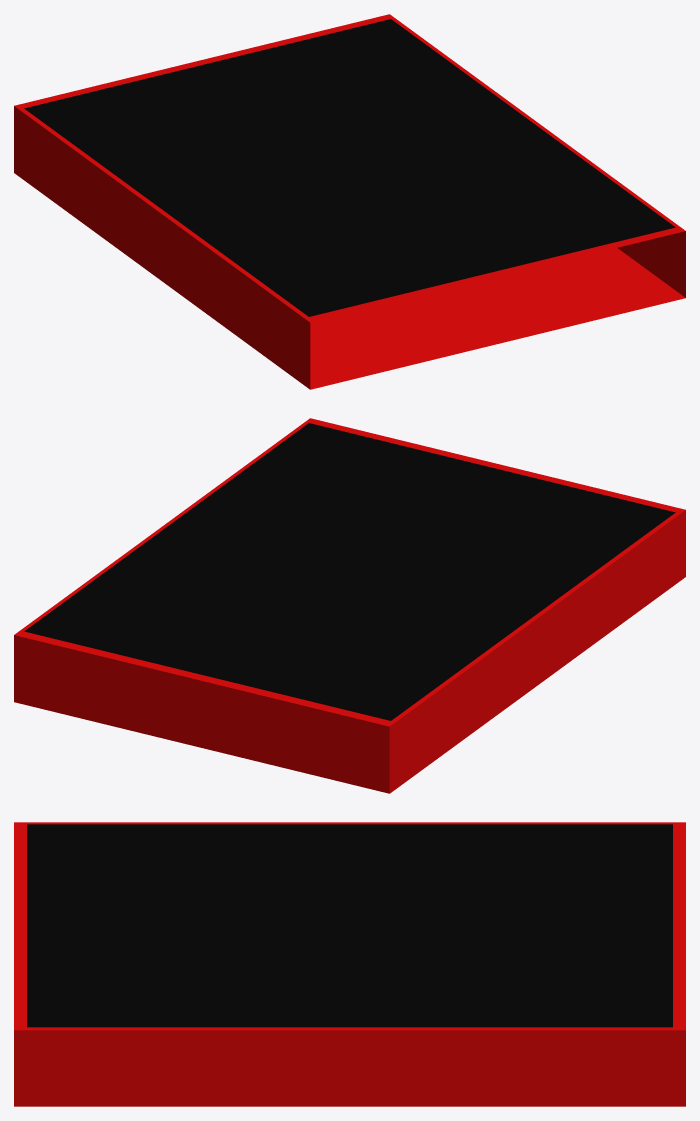
Rendered from hex.glb.
3 views of the same model, one above another, from view 1: azimuth 30°, elevation 25°; view 2: azimuth 150°, elevation 25°; view 3: azimuth 270°, elevation 25° (orthographic). The views are drawn at different scales.
Parts seen in each view (by area): view 1: Lid; view 2: Lid; view 3: Lid.
Part boxes in pixels (left/top/right/bottom): Lid: left=14, top=14, right=685, bottom=389; Lid: left=14, top=418, right=685, bottom=793; Lid: left=14, top=822, right=685, bottom=1106.
Size of the model in its own units: 205 by 35.22 by 280.
Materials: 3 (1 with a texture image).
